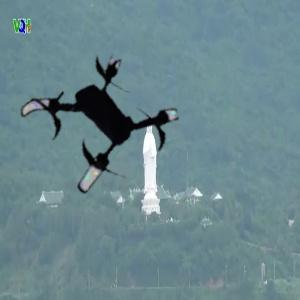drone: (17, 48, 178, 209)
